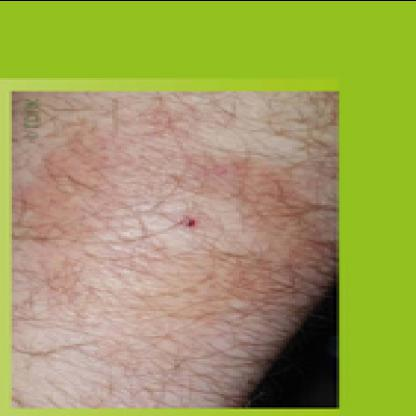Tick: (23, 123, 334, 393)
